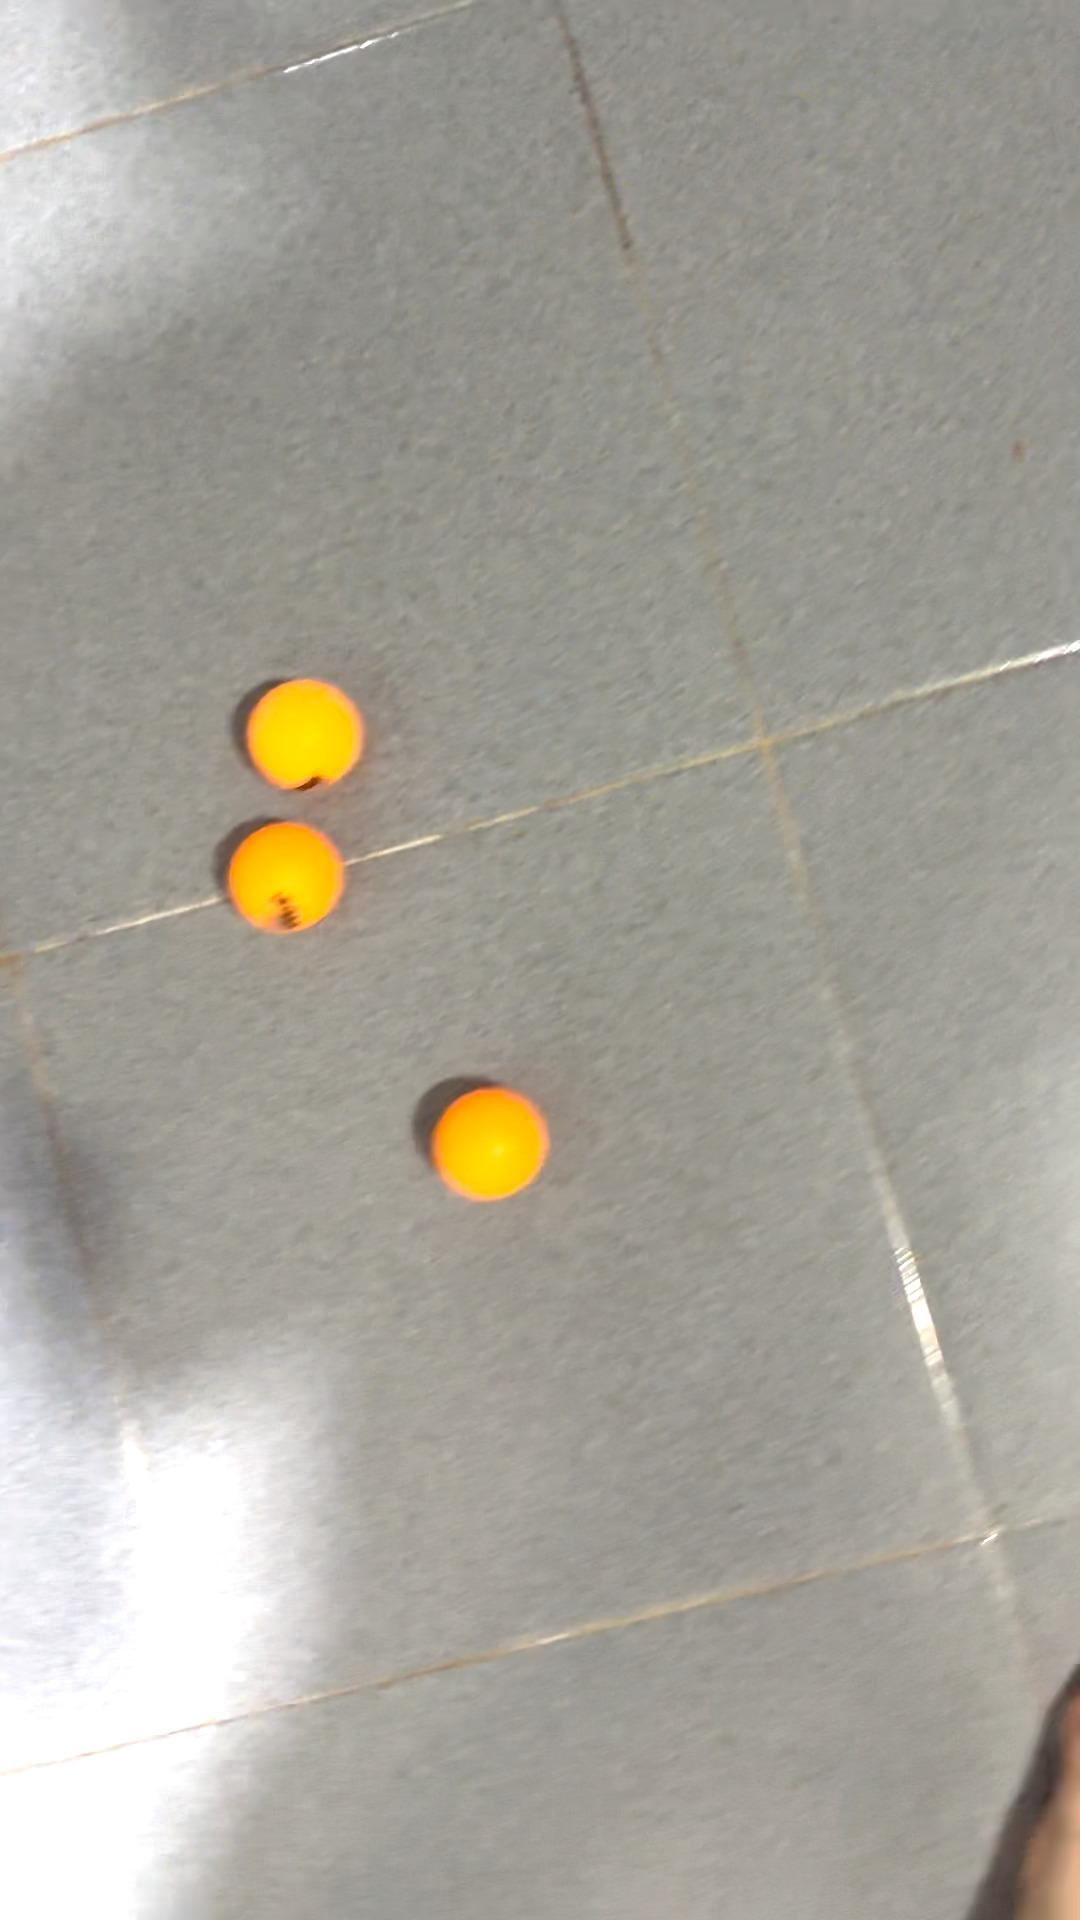oball: (421, 1077, 564, 1215), (236, 667, 361, 791), (228, 815, 348, 942)
